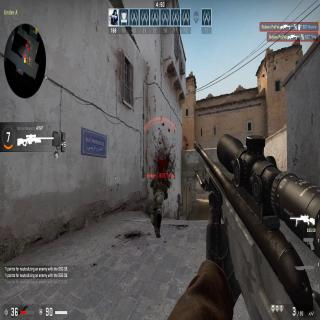CT-Body: (176, 193, 183, 216)
CT-Head: (178, 193, 180, 198)
